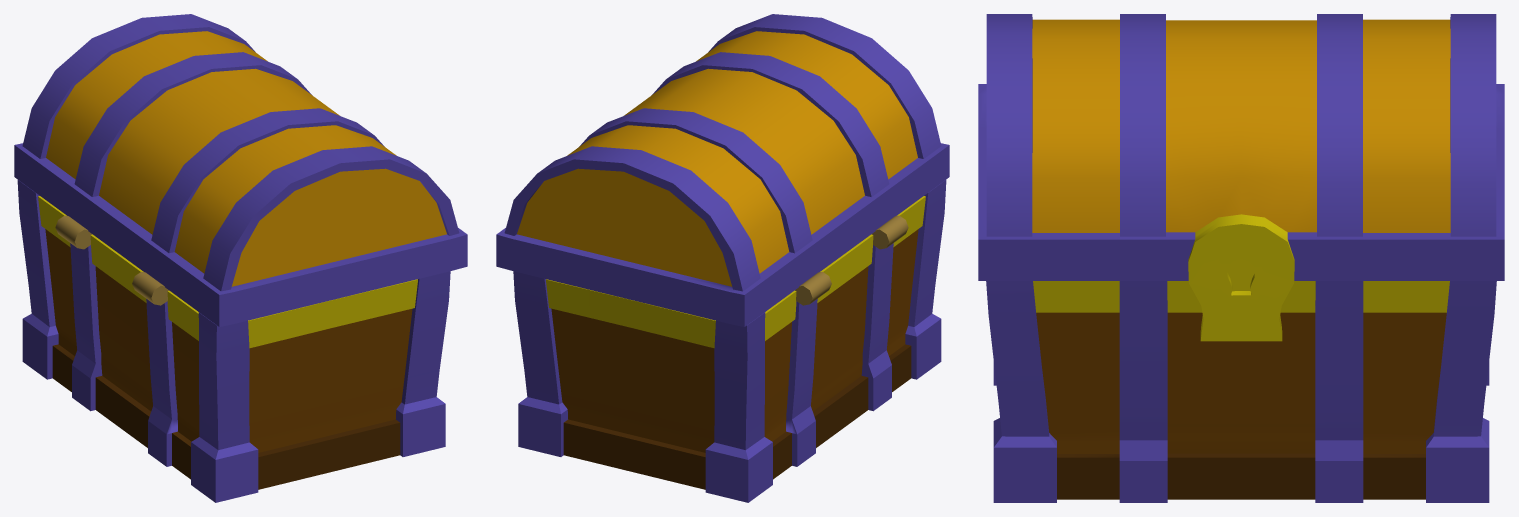
Rendered from animation2.fbx.
The picture shows the model from 3 angles, left to right: view 1: azimuth 30°, elevation 25°; view 2: azimuth 150°, elevation 25°; view 3: azimuth 270°, elevation 25°; orthographic projection. The views are drawn at different scales.
Parts seen in each view (by area): view 1: Chest_Top, Chest_Bottom; view 2: Chest_Top, Chest_Bottom; view 3: Chest_Top, Chest_Bottom.
Part boxes in pixels (x1,y1,x2,y2): Chest_Top: [14, 14, 467, 326]; Chest_Bottom: [17, 180, 450, 502]; Chest_Top: [496, 14, 949, 326]; Chest_Bottom: [513, 180, 946, 502]; Chest_Top: [978, 14, 1504, 341]; Chest_Bottom: [986, 281, 1496, 502].
Size of the model in its own units: 263 by 295 by 351.
